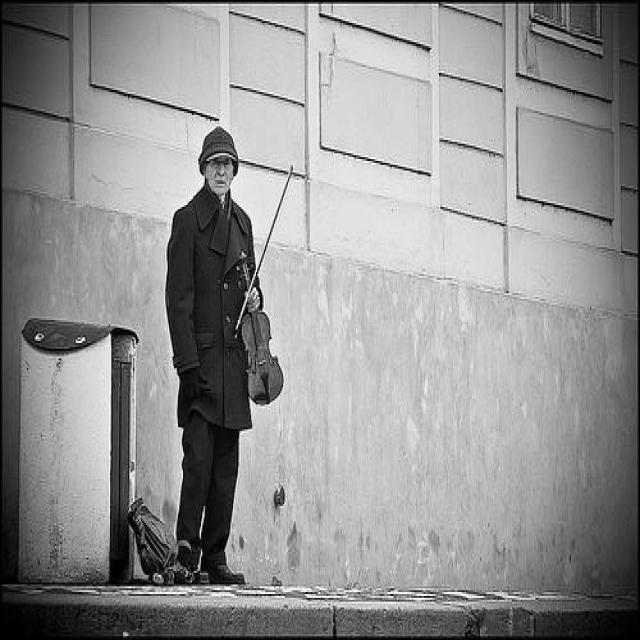violin: (235, 250, 286, 408)
